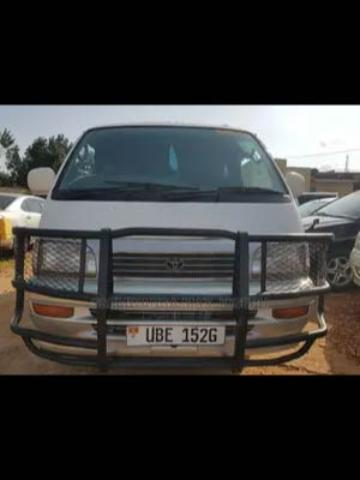van: (8, 120, 332, 364)
